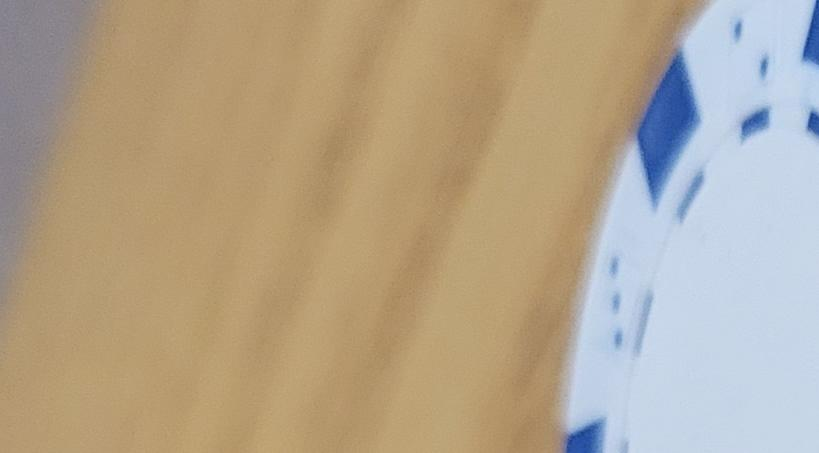Chip: (1, 171, 459, 453)
